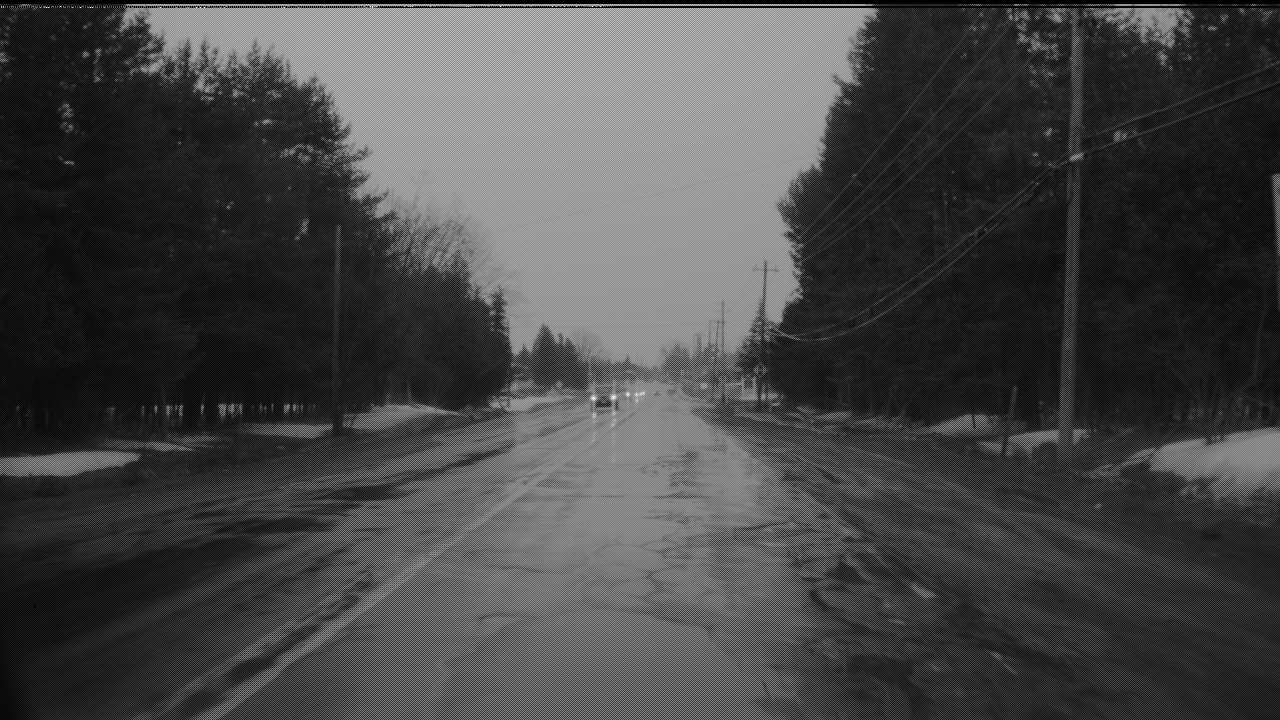pole: (1055, 1, 1084, 456), (332, 217, 341, 428), (756, 252, 767, 404), (721, 292, 725, 395)
